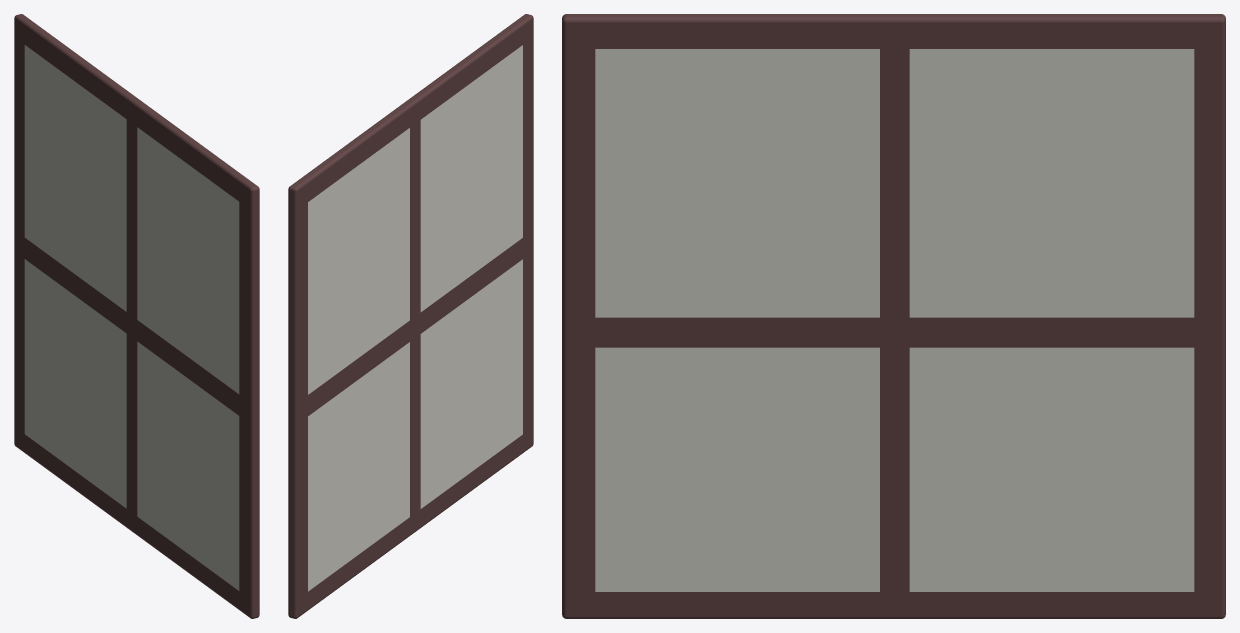
File: window.fbx
The picture shows the model from 3 angles, left to right: view 1: azimuth 30°, elevation 25°; view 2: azimuth 150°, elevation 25°; view 3: azimuth 270°, elevation 25°; orthographic projection. The views are drawn at different scales.
Visible parts, largest first — view 1: Glass, Frame; view 2: Glass, Frame; view 3: Glass, Frame.
Boxes of the visible parts, x1,y1,x2,y2 form: Glass: (24,45,239,590); Frame: (14,14,259,618); Glass: (308,45,522,591); Frame: (288,14,533,618); Glass: (595,49,1194,591); Frame: (562,14,1225,618).
Size of the model in its own units: 3.52 by 154 by 154.
